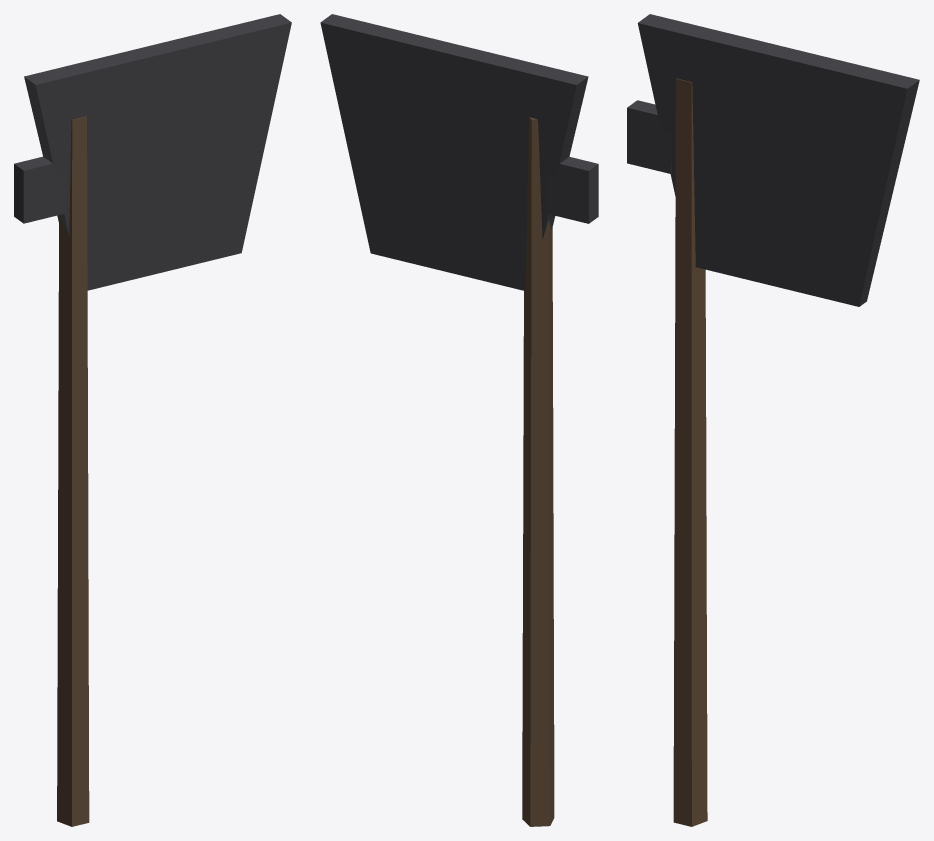
File: w_greataxe.glb
3 renders of one model, left to right at view 1: azimuth 30°, elevation 25°; view 2: azimuth 150°, elevation 25°; view 3: azimuth 330°, elevation 25°, orthographic. The views are drawn at different scales.
Visible parts, largest first — view 1: w_greataxe; view 2: w_greataxe; view 3: w_greataxe.
Part boxes in pixels (bbox=[...]): w_greataxe: bbox=[14, 14, 291, 826]; w_greataxe: bbox=[320, 14, 598, 826]; w_greataxe: bbox=[627, 14, 919, 826].
Size of the model in its own units: 0.634 by 1.7 by 0.0633.
